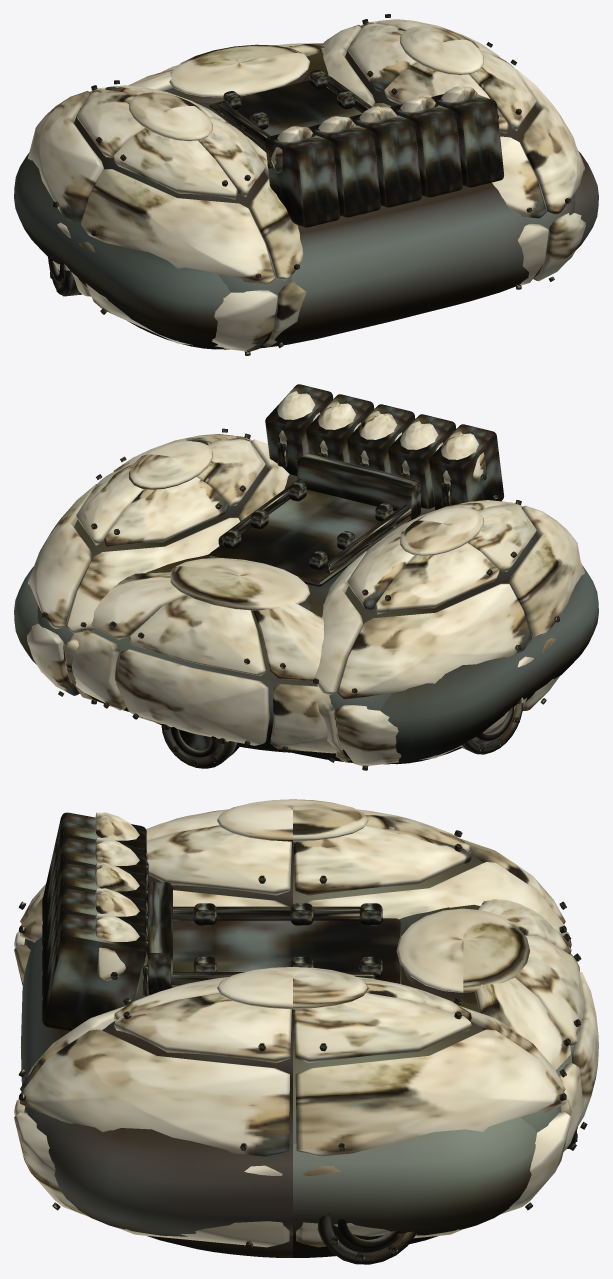
Rendered from body-assembler-astra4-v3.glb.
3 views of the same model, one above another, from view 1: azimuth 30°, elevation 25°; view 2: azimuth 150°, elevation 25°; view 3: azimuth 270°, elevation 25° (orthographic). The views are drawn at different scales.
Visible parts, largest first — view 1: assembler-detail-ceramic, assembler-steel, assembler-detail-metal, assembler-detail-brass; view 2: assembler-detail-ceramic, assembler-detail-metal, assembler-steel, assembler-detail-brass; view 3: assembler-detail-ceramic, assembler-steel, assembler-detail-metal, assembler-detail-brass.
Part boxes in pixels (left/top/right/bottom): assembler-detail-ceramic: left=28, top=19, right=585, bottom=351; assembler-steel: left=14, top=52, right=598, bottom=349; assembler-detail-metal: left=50, top=40, right=575, bottom=349; assembler-detail-brass: left=48, top=14, right=571, bottom=355; assembler-detail-ceramic: left=27, top=391, right=584, bottom=766; assembler-detail-metal: left=37, top=384, right=538, bottom=768; assembler-steel: left=14, top=474, right=598, bottom=764; assembler-detail-brass: left=41, top=428, right=559, bottom=770; assembler-detail-ceramic: left=14, top=799, right=598, bottom=1247; assembler-steel: left=20, top=904, right=536, bottom=1236; assembler-detail-metal: left=24, top=812, right=577, bottom=1264; assembler-detail-brass: left=18, top=830, right=587, bottom=1263.
Size of the model in its own units: 1.48 by 0.709 by 1.27.
Materials: 4 (4 with a texture image).
